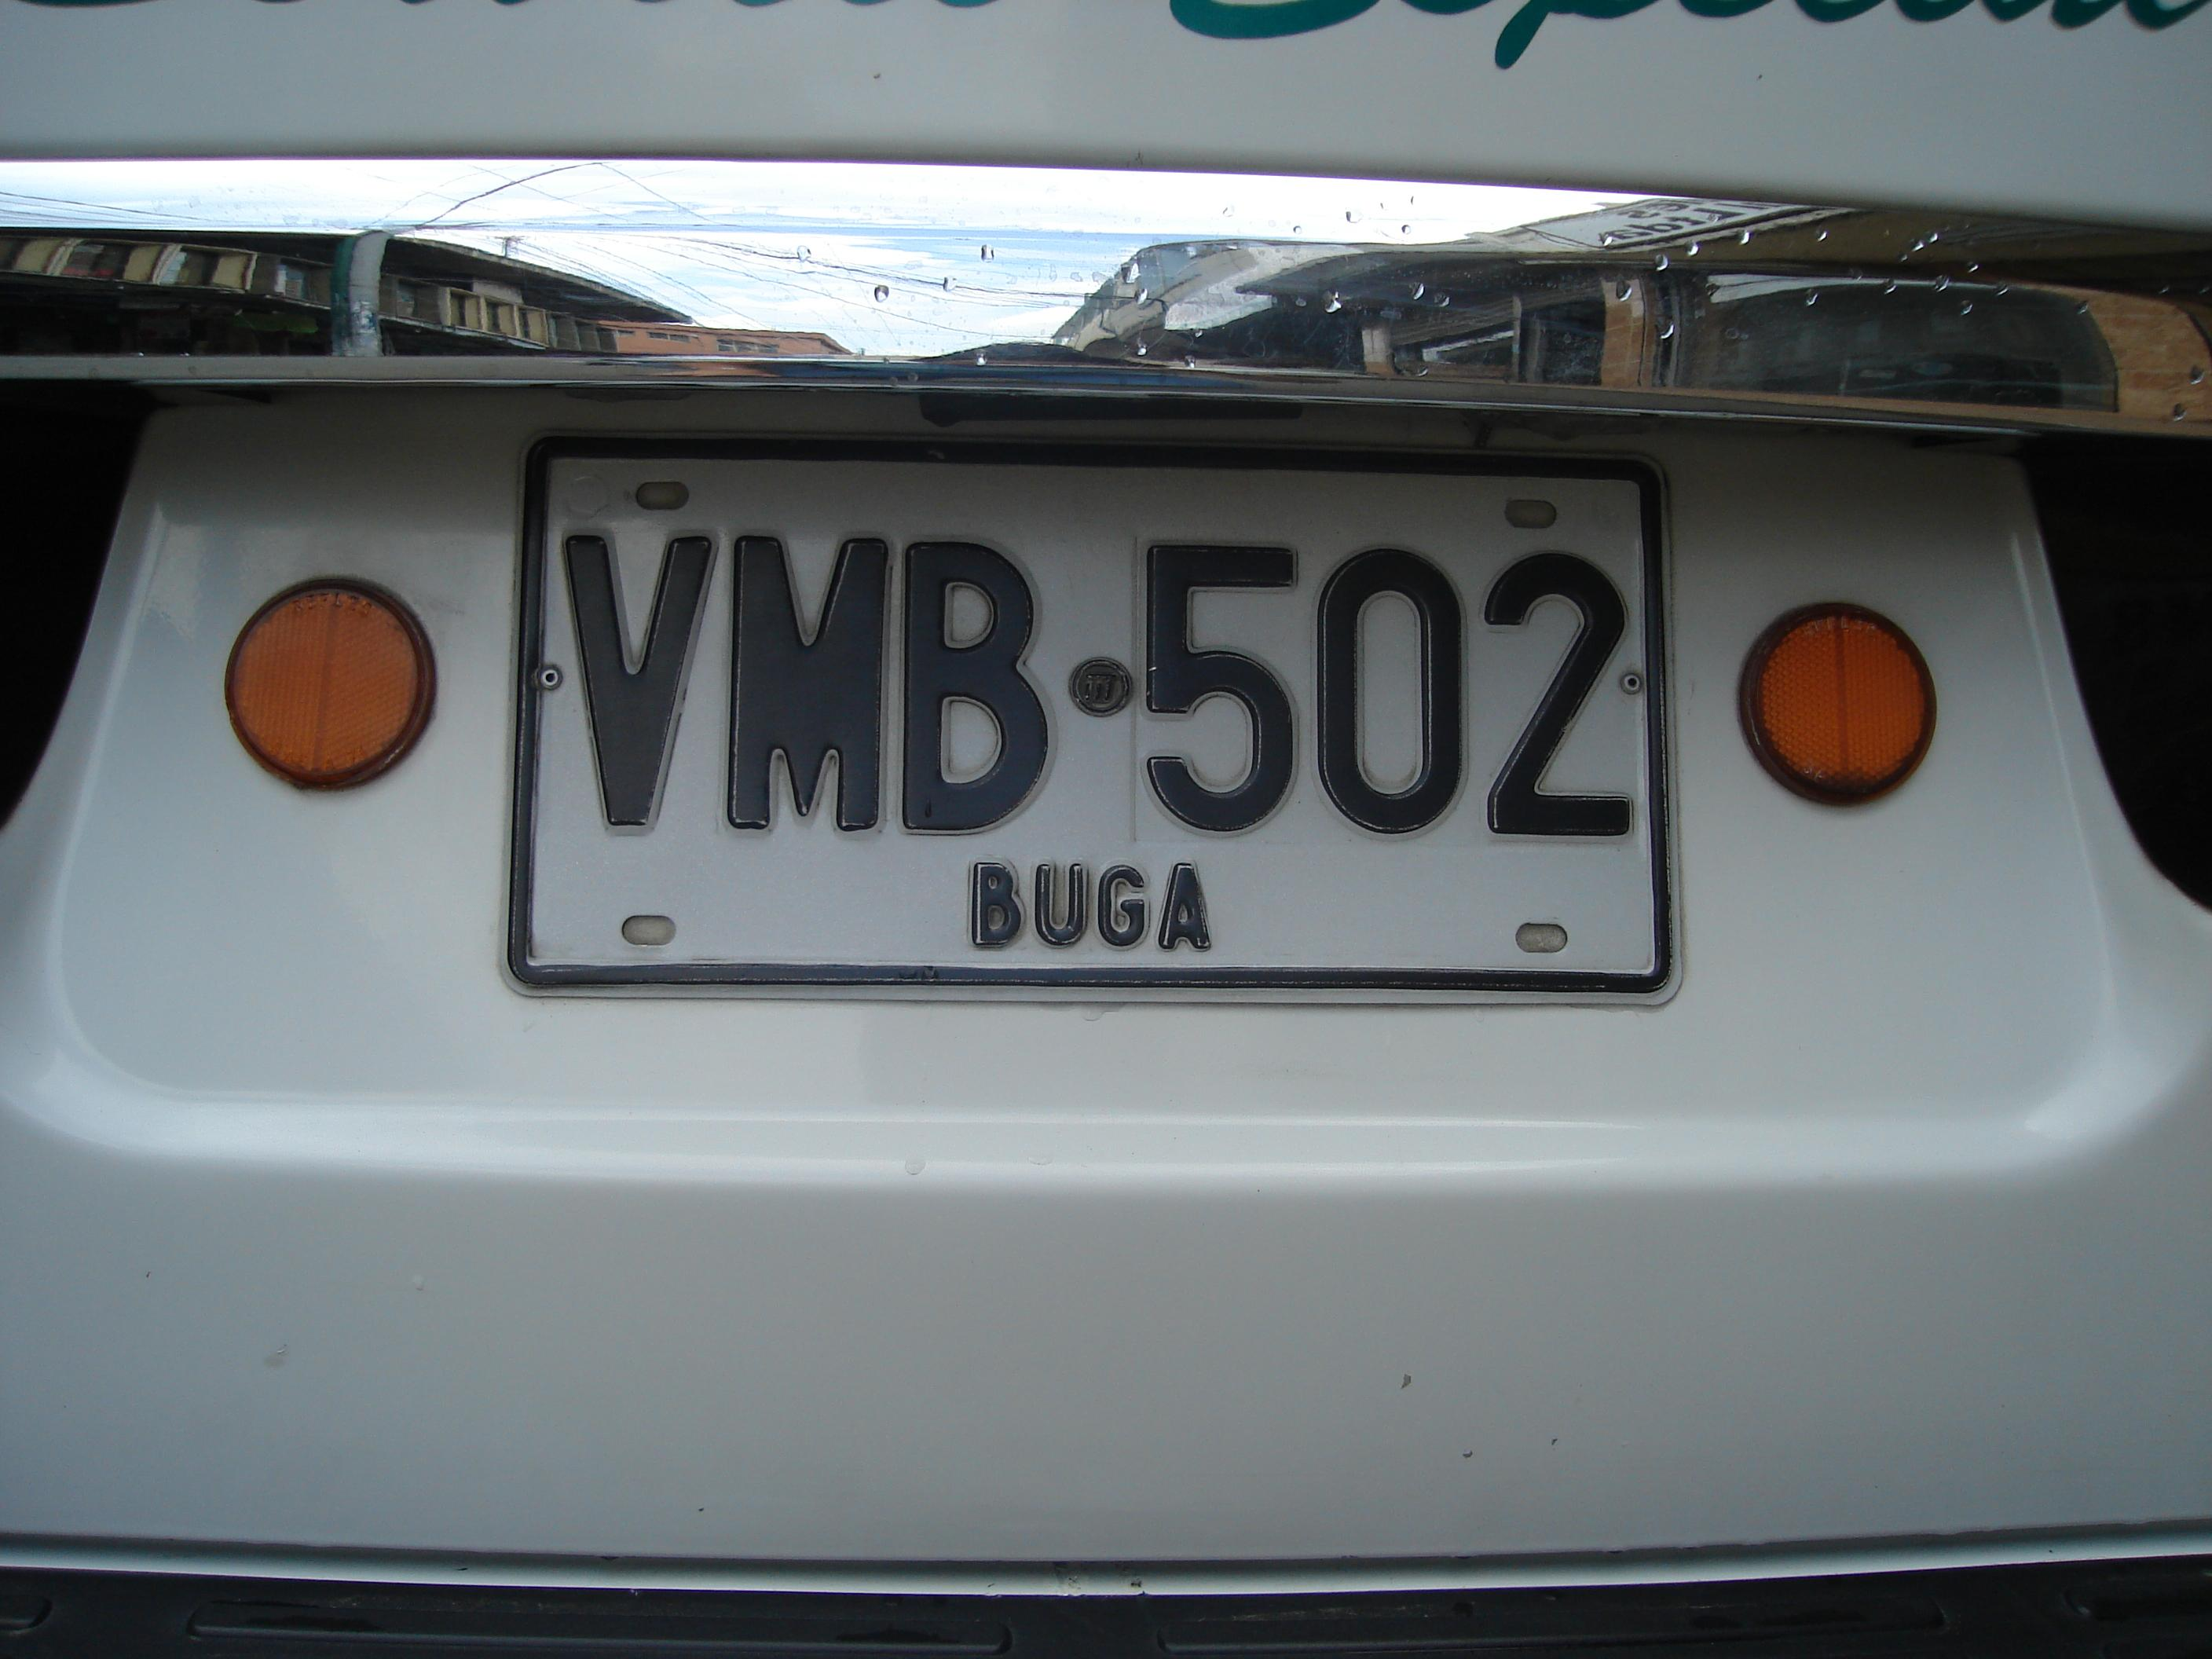placas: (492, 410, 1690, 1022)
